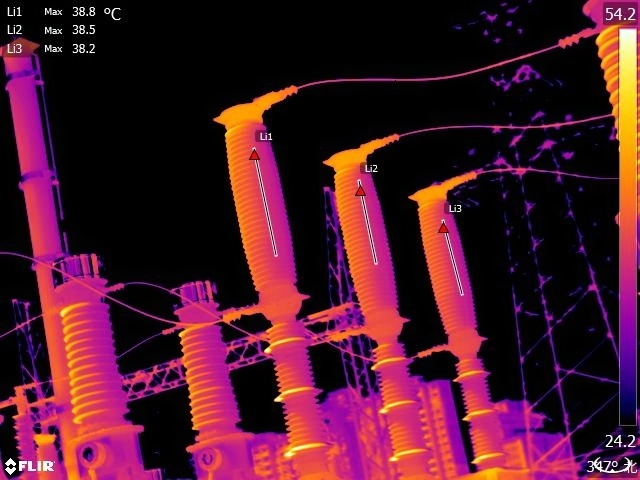circuit breaker: (213, 83, 336, 477), (321, 129, 443, 480), (405, 172, 514, 480)
current transformer: (44, 245, 161, 480), (159, 270, 273, 480)
post insulator: (13, 411, 39, 480)
switch: (1, 383, 33, 416)
